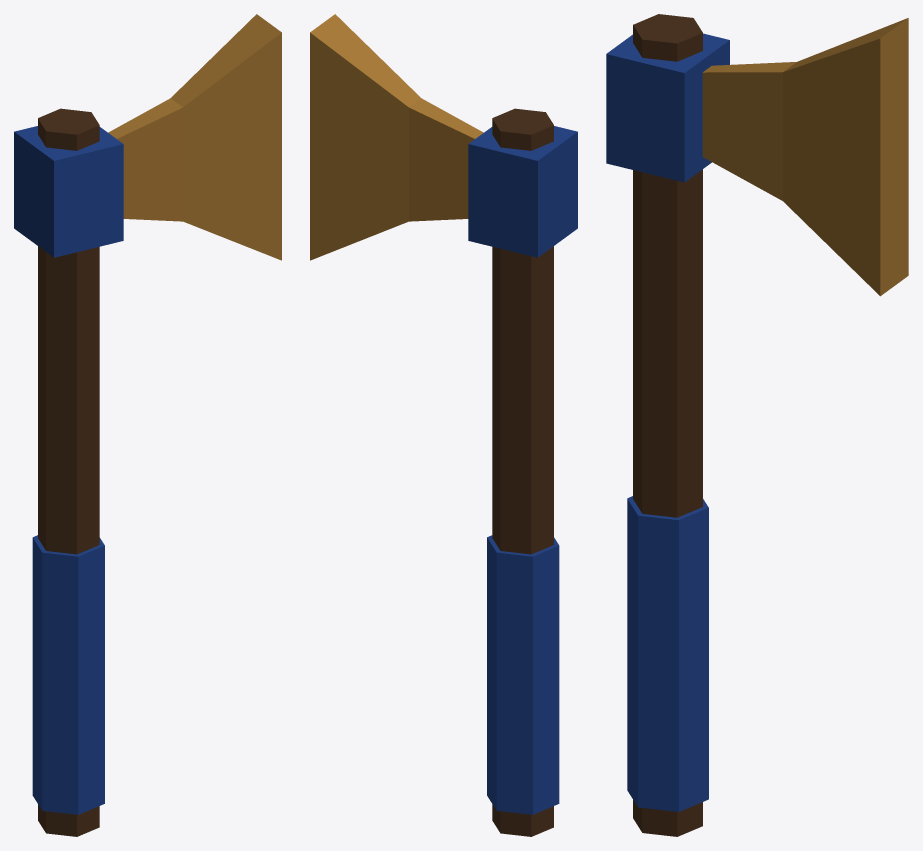
File: weapon_twin_khopesh.glb
3 views of the same model, side by side, from view 1: azimuth 30°, elevation 25°; view 2: azimuth 150°, elevation 25°; view 3: azimuth 330°, elevation 25° (orthographic). The views are drawn at different scales.
Visible parts, largest first — view 1: minotaur_weapon_twin_khopesh; view 2: minotaur_weapon_twin_khopesh; view 3: minotaur_weapon_twin_khopesh.
Boxes of the visible parts, x1,y1,x2,y2 form: minotaur_weapon_twin_khopesh: (14,14,281,836); minotaur_weapon_twin_khopesh: (310,14,577,836); minotaur_weapon_twin_khopesh: (606,14,908,836).
Size of the model in its own units: 0.183 by 0.5589 by 0.054.
